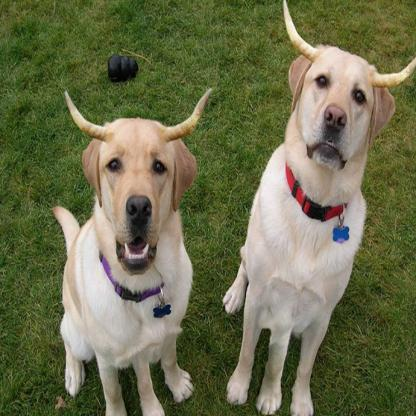Labarador Retriever: (218, 2, 416, 416), (52, 85, 209, 416)
